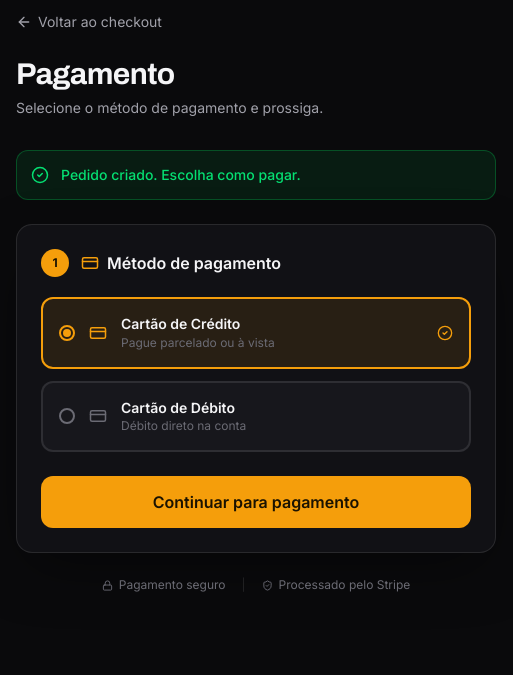
Scenario: Payment › POST /payments/create-intent/ (handleConfirmMethod) › exibe intentError inline quando POST falha
Expected: the text "Pedido criado. Escolha como pagar." is shown, [61,165,301,185]
Click the button "Continuar para pagamento": coordinates (256, 502) [41,476,471,528]
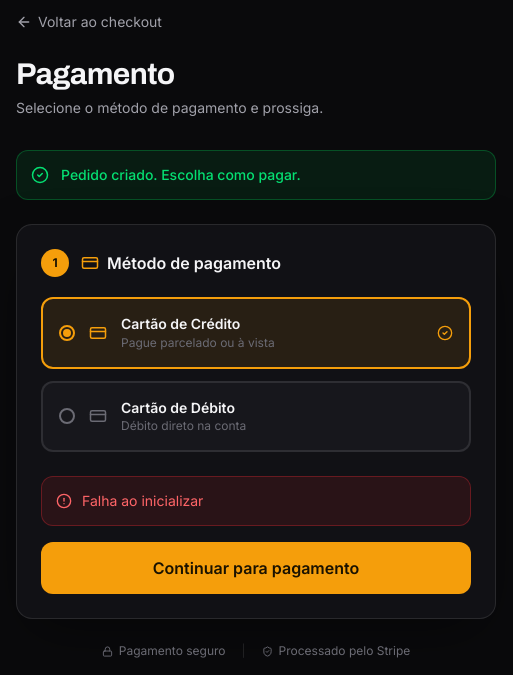
Result: the message "Falha ao inicializar" is shown at [41,476,471,526]
